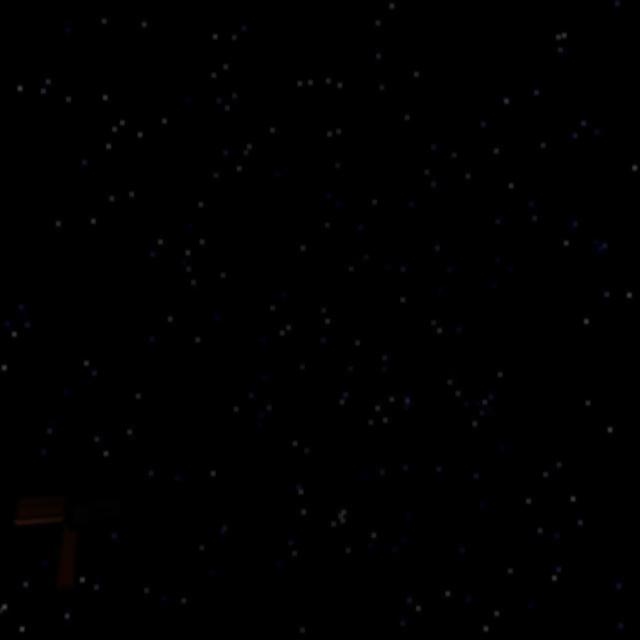medium_debris: (4, 476, 79, 604)
